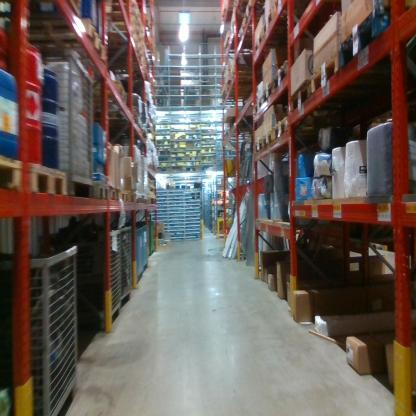pallet: (338, 8, 414, 85), (9, 12, 103, 60), (288, 79, 373, 112), (26, 152, 74, 204), (259, 10, 312, 45), (311, 46, 342, 100), (86, 79, 131, 109), (1, 149, 25, 191), (275, 117, 311, 138), (102, 28, 138, 49), (251, 34, 273, 62), (268, 2, 306, 18), (253, 97, 273, 119), (92, 181, 110, 203), (262, 126, 276, 154), (102, 185, 121, 203), (114, 184, 132, 203), (128, 185, 140, 207), (255, 134, 263, 160)
stillage: (13, 240, 82, 413), (38, 45, 99, 193), (88, 229, 124, 337), (118, 224, 140, 310)
